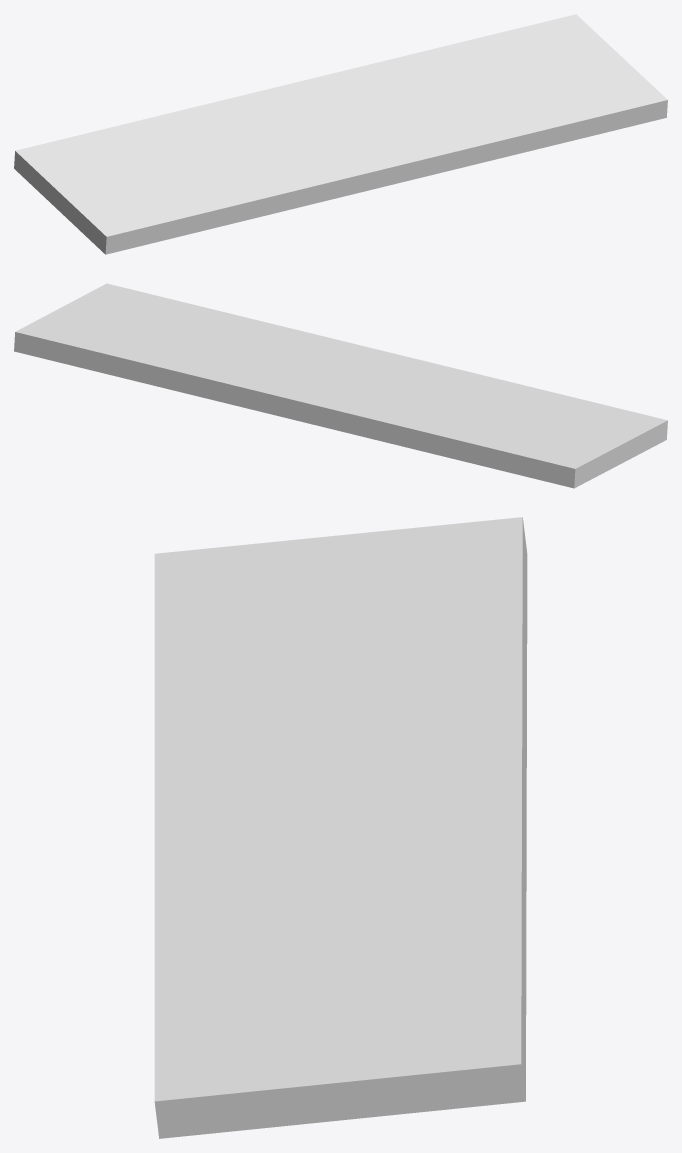
The model's file is Flap.glb.
The picture shows the model from 3 angles, top to bottom: view 1: azimuth 30°, elevation 25°; view 2: azimuth 150°, elevation 25°; view 3: azimuth 270°, elevation 25°; orthographic projection. The views are drawn at different scales.
Visible parts, largest first — view 1: Flap; view 2: Flap; view 3: Flap.
Boxes of the visible parts, <box> form: Flap: <box>14,14,667,254</box>; Flap: <box>14,283,667,488</box>; Flap: <box>154,517,527,1138</box>.
Size of the model in its own units: 0.1561 by 0.00992 by 0.0449.
Materials: 1 (1 with a texture image).
